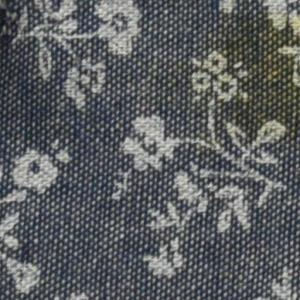Damage: (1, 1, 37, 60)
Stain: (193, 1, 300, 153)
